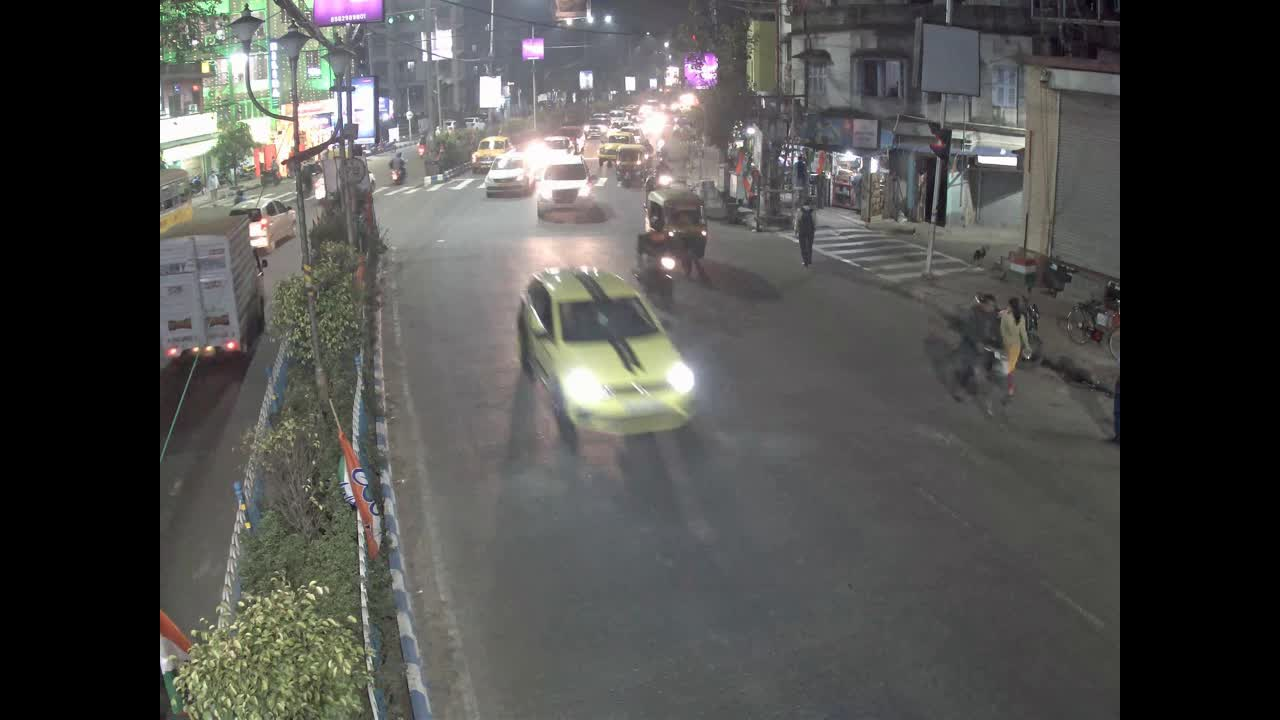auto-rickshaw: (645, 190, 699, 262), (615, 143, 648, 187)
bike: (618, 250, 695, 314)
car: (520, 262, 701, 439), (530, 157, 599, 223), (239, 192, 306, 252), (494, 152, 529, 203), (472, 133, 507, 159)
person: (1000, 284, 1043, 372), (787, 191, 828, 268), (963, 290, 999, 354), (632, 213, 677, 258)
